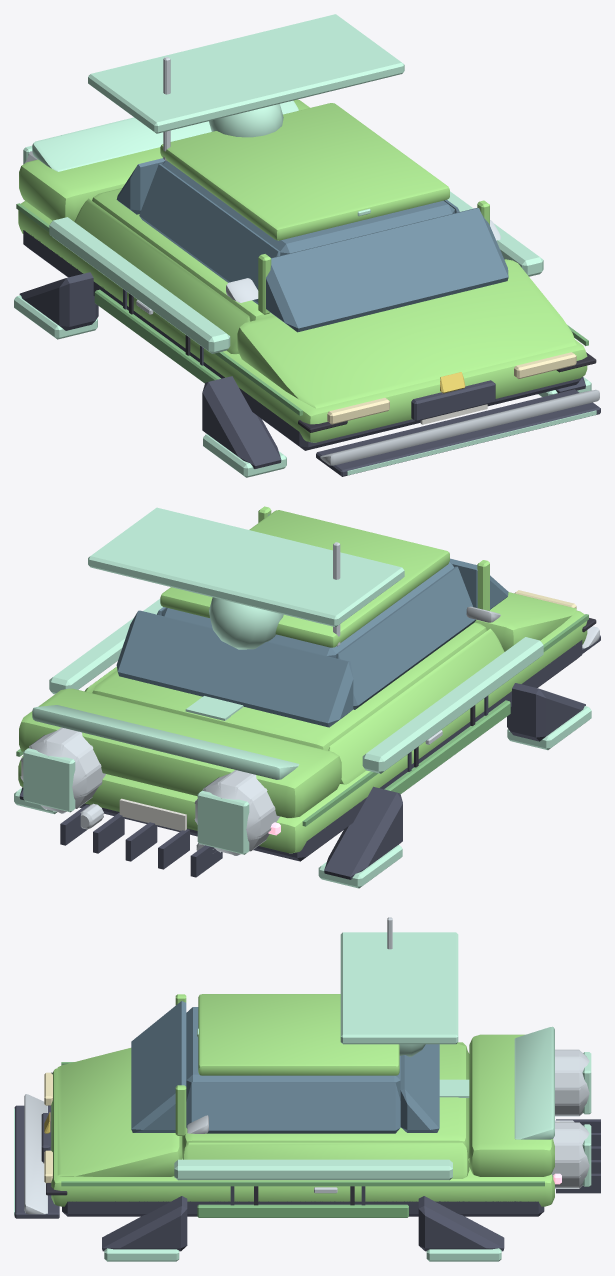
Rendered from maglev_manta.fbx.
3 views of the same model, one above another, from view 1: azimuth 30°, elevation 25°; view 2: azimuth 150°, elevation 25°; view 3: azimuth 270°, elevation 25° (orthographic). The views are drawn at different scales.
Visible parts, largest first — view 1: Body, Light, Glass, Trim, Accent, Accent3, Accent2, Light2, Trim2; view 2: Body, Light, Glass, Trim, Accent, Accent3, Accent2, Accent4, Metal; view 3: Body, Light, Glass, Trim, Accent, Accent2, Accent3, Light2.
Part boxes in pixels (x1,y1,x2,y2): Body: (18, 99, 587, 442); Light: (14, 14, 596, 477); Glass: (116, 158, 508, 332); Trim: (19, 230, 600, 476); Accent: (25, 57, 599, 465); Accent3: (32, 100, 298, 171); Accent2: (16, 203, 588, 415); Light2: (327, 352, 576, 424); Trim2: (129, 293, 596, 432); Body: (18, 506, 587, 853); Light: (14, 507, 591, 888); Glass: (116, 514, 508, 727); Trim: (19, 635, 600, 879); Accent: (20, 542, 599, 855); Accent3: (32, 705, 299, 779); Accent2: (16, 614, 588, 826); Accent4: (119, 798, 186, 830); Metal: (80, 730, 442, 853); Body: (51, 994, 554, 1206); Light: (14, 932, 591, 1261); Glass: (131, 1001, 439, 1133); Trim: (14, 1105, 600, 1251); Accent: (24, 917, 589, 1214); Accent2: (61, 1062, 544, 1217); Accent3: (514, 1026, 554, 1139); Light2: (44, 1072, 52, 1183).
Size of the model in its own units: 3.2 by 2.44 by 5.48.
